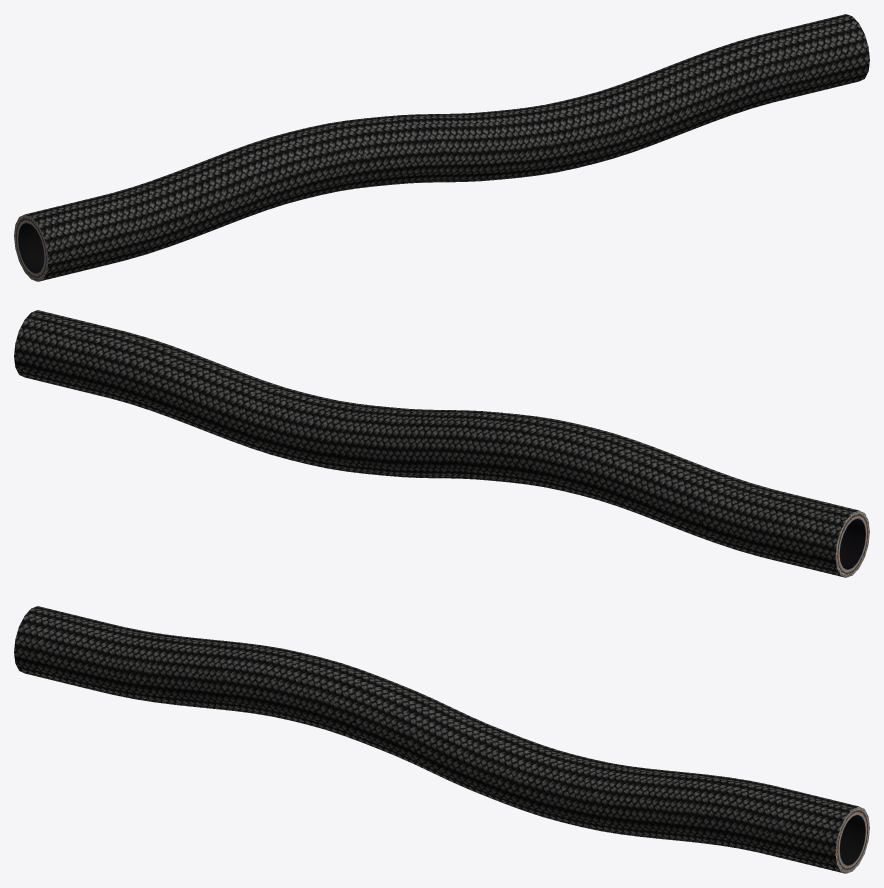
The picture shows the model from 3 angles, top to bottom: view 1: azimuth 30°, elevation 25°; view 2: azimuth 150°, elevation 25°; view 3: azimuth 330°, elevation 25°; orthographic projection.
Visible parts, largest first — view 1: Polymer Braid-12; view 2: Polymer Braid-12; view 3: Polymer Braid-12.
Boxes of the visible parts, <box> form: Polymer Braid-12: <box>14,14,869,281</box>; Polymer Braid-12: <box>14,310,869,577</box>; Polymer Braid-12: <box>14,606,869,873</box>.
Bounding box in the file's own units: 0.3074 × 0.0351 × 0.0224.
Materials: 2 (2 with a texture image).
